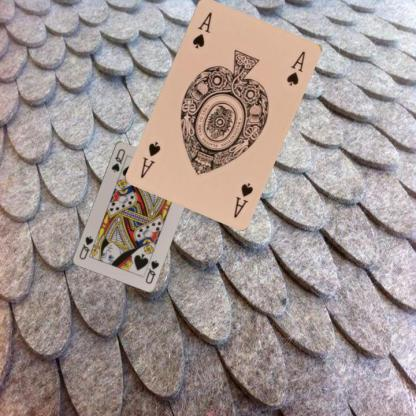As: (190, 9, 213, 50), (231, 179, 254, 219)
Qs: (109, 146, 126, 174), (143, 258, 160, 285)
